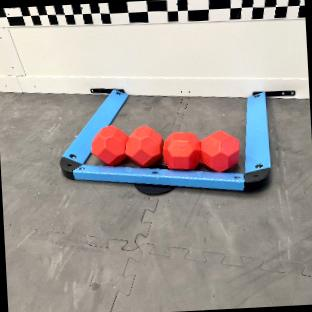Parking - Part: (60, 90, 270, 189)
V5_RED: (92, 125, 238, 170)
